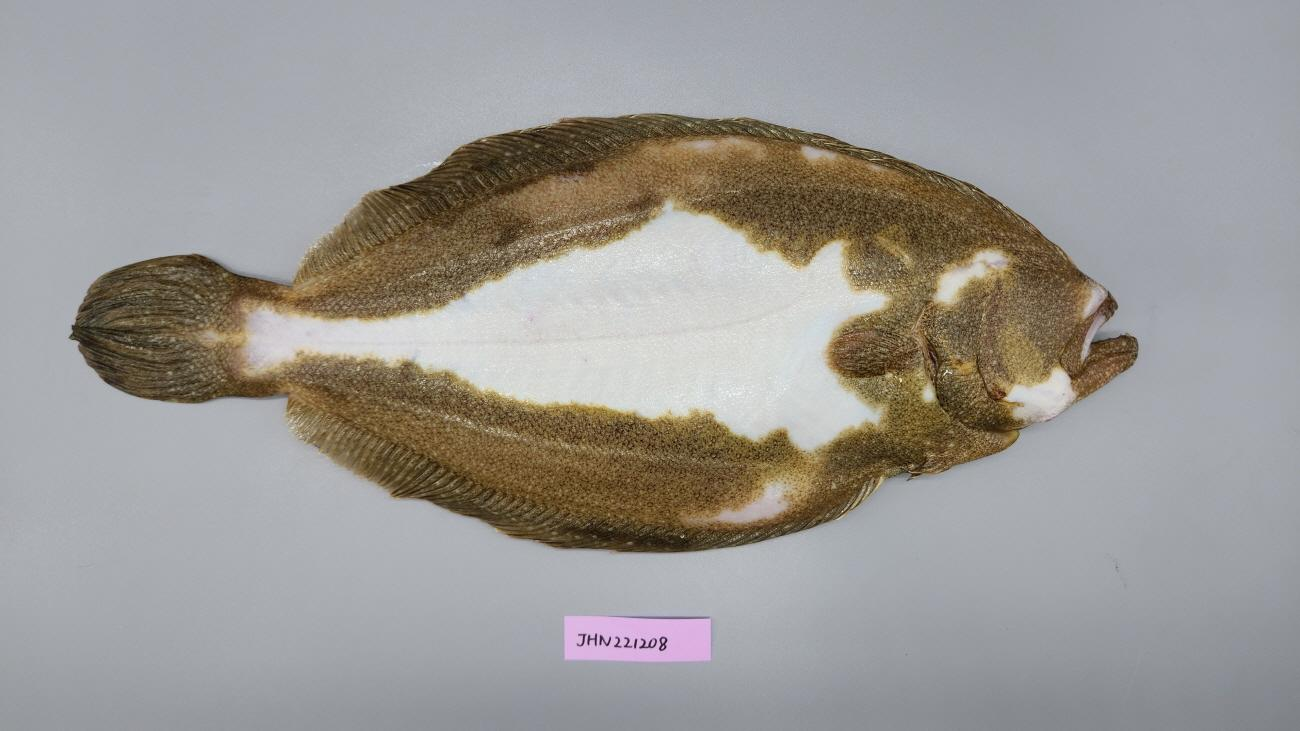POOUN: (68, 110, 1139, 556)
